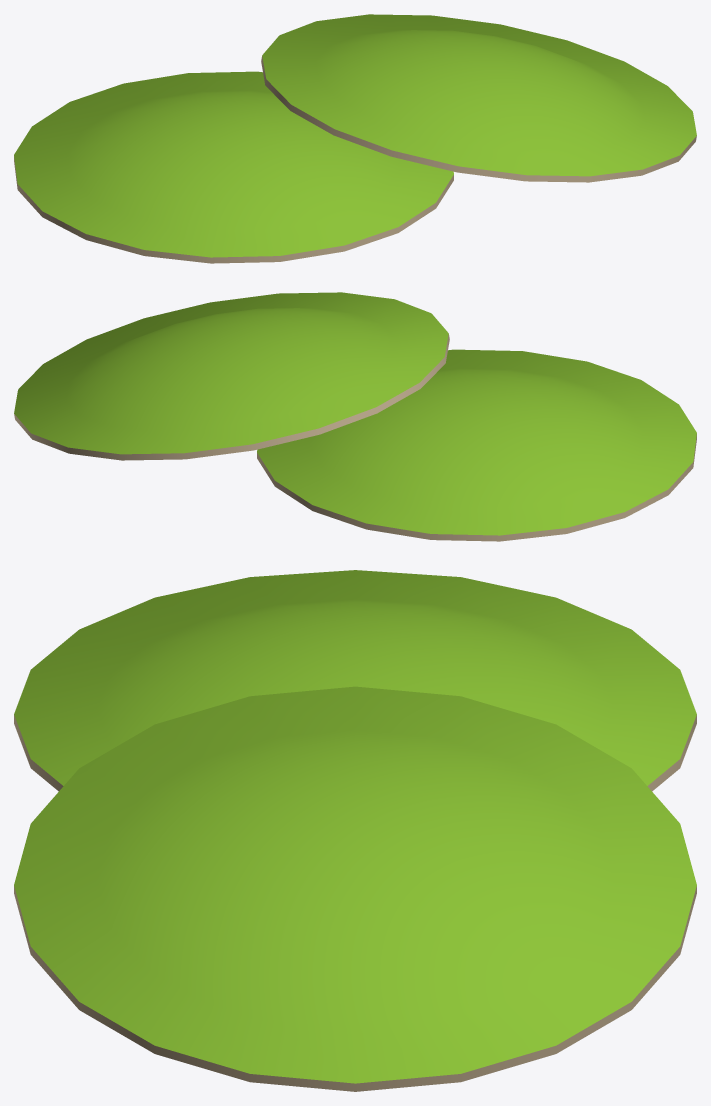
File: SURABI.FBX
3 renders of one model, top to bottom at view 1: azimuth 30°, elevation 25°; view 2: azimuth 150°, elevation 25°; view 3: azimuth 270°, elevation 25°, orthographic. The views are drawn at different scales.
Visible parts, largest first — view 1: SURABI, SURABI01; view 2: SURABI, SURABI01; view 3: SURABI01, SURABI.
Boxes of the visible parts, box(x1,y1,x2,y2) form: SURABI: box(14, 71, 453, 263); SURABI01: box(261, 14, 696, 182); SURABI: box(257, 349, 696, 541); SURABI01: box(14, 292, 449, 460); SURABI01: box(14, 686, 696, 1091); SURABI: box(14, 570, 696, 791).
Size of the model in its own units: 72.23 by 9.46 by 44.24.
